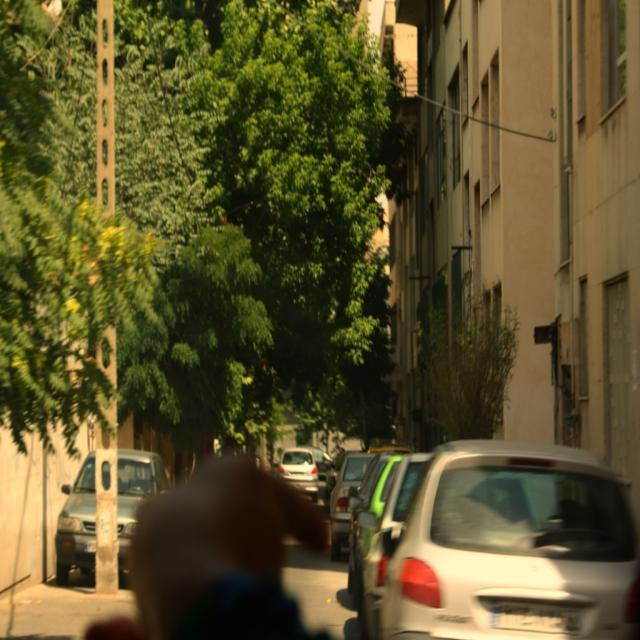car: (362, 461, 536, 638), (50, 441, 169, 595), (350, 455, 409, 595), (327, 449, 377, 557), (278, 446, 328, 500)
